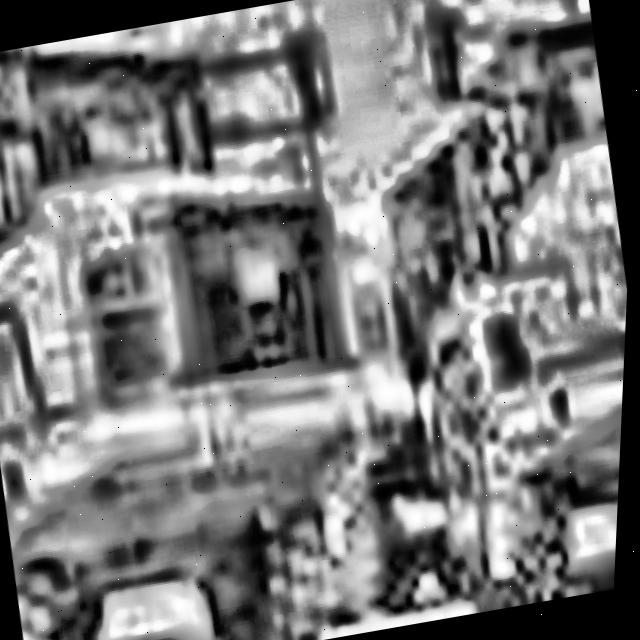dump_truck: (0, 0, 456, 640), (301, 0, 640, 624)
